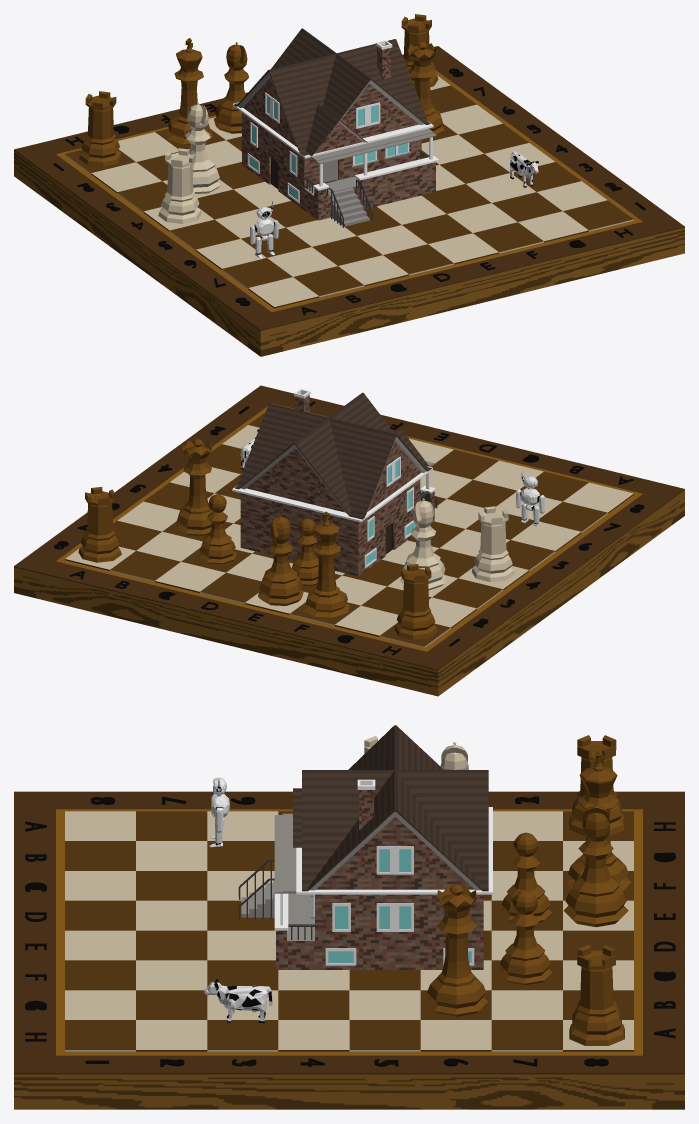
3 views of the same model, one above another, from view 1: azimuth 30°, elevation 25°; view 2: azimuth 150°, elevation 25°; view 3: azimuth 270°, elevation 25° (orthographic). The views are drawn at different scales.
Parts seen in each view (by area): view 1: Cube.002, Cube.117, OBJRANDOM_PLATZEEBOT, ANIMAL_VACA; view 2: Cube.002, Cube.117, OBJRANDOM_PLATZEEBOT; view 3: Cube.002, Cube.117, ANIMAL_VACA, OBJRANDOM_PLATZEEBOT.
Part boxes in pixels (x1,y1,x2,y2): Cube.002: (14, 14, 684, 356); Cube.117: (232, 28, 438, 227); OBJRANDOM_PLATZEEBOT: (250, 201, 278, 258); ANIMAL_VACA: (510, 151, 538, 187); Cube.002: (14, 385, 684, 696); Cube.117: (232, 389, 437, 576); OBJRANDOM_PLATZEEBOT: (516, 471, 544, 526); Cube.002: (14, 735, 684, 1109); Cube.117: (238, 725, 492, 969); ANIMAL_VACA: (204, 979, 272, 1023); OBJRANDOM_PLATZEEBOT: (209, 777, 229, 847).
Bounding box in the file's own units: 3981 × 1484 × 4012.
25 materials, 3 textured.
